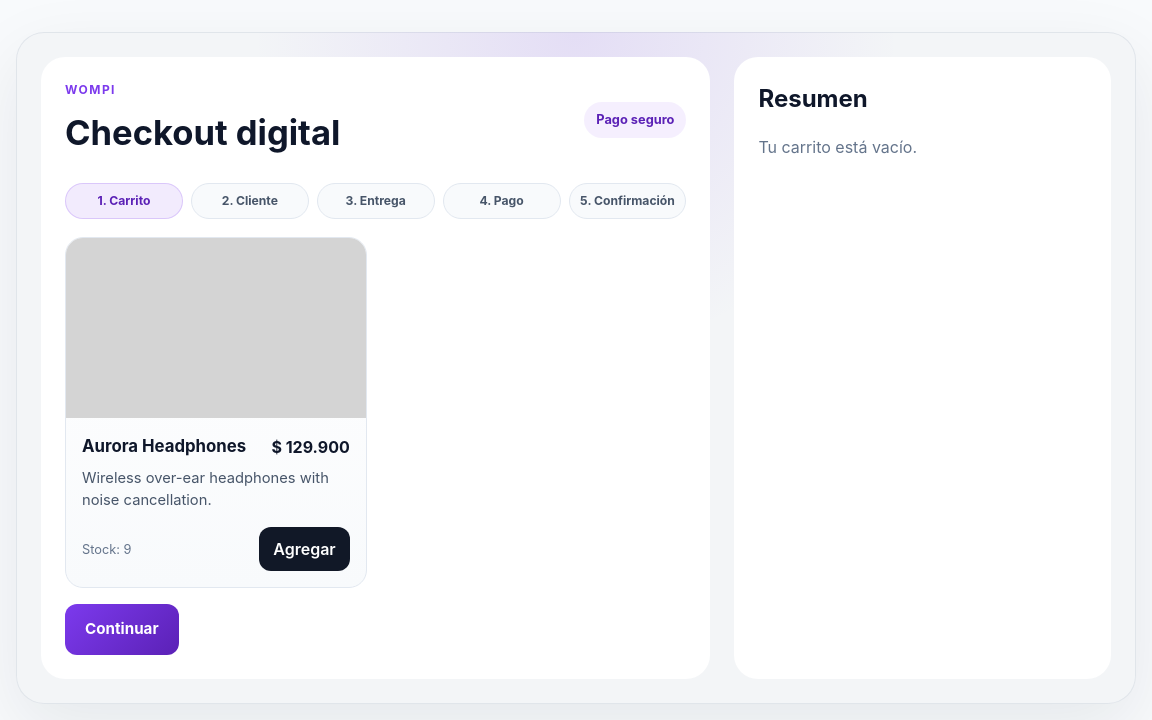
Scenario: App checkout flow › Step navigation › prevents continuing from step 1 with empty cart
The width and height of the screenshot is (1152, 720).
Click the button "Continuar" at (122, 630), box [65, 604, 179, 655]
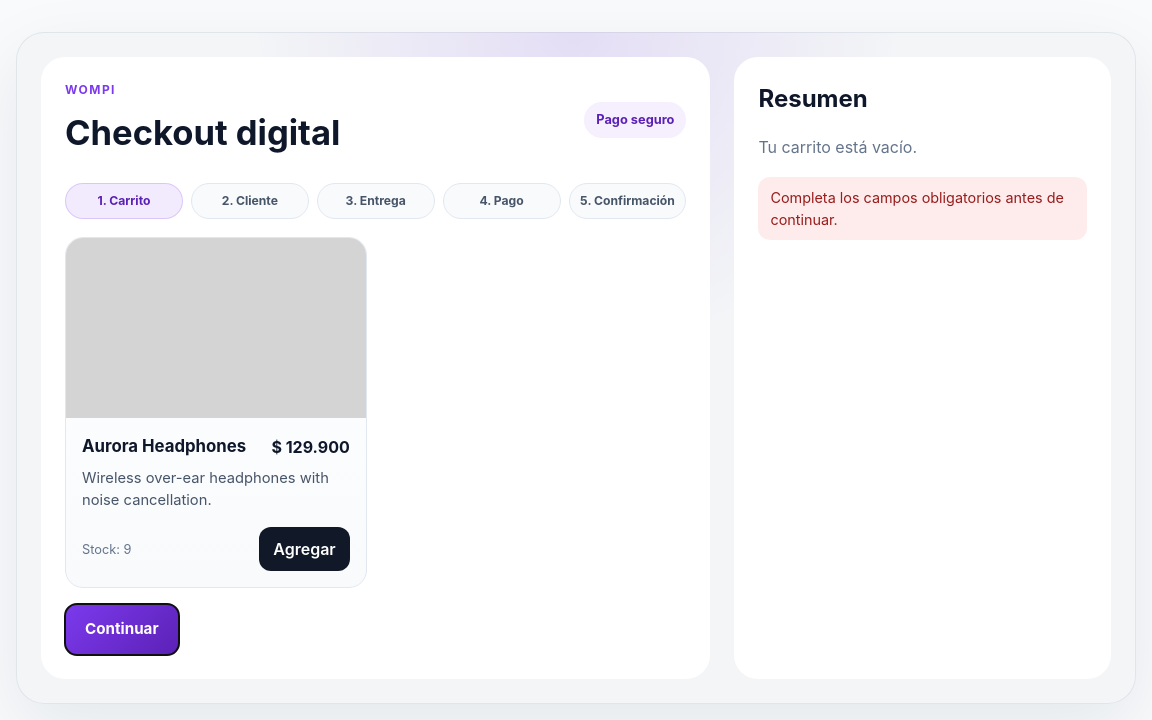
Result: the text "Completa los campos obligatorios antes de continuar." is shown at [758, 177, 1087, 240]
